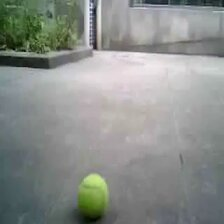tennis: (77, 172, 110, 218)
